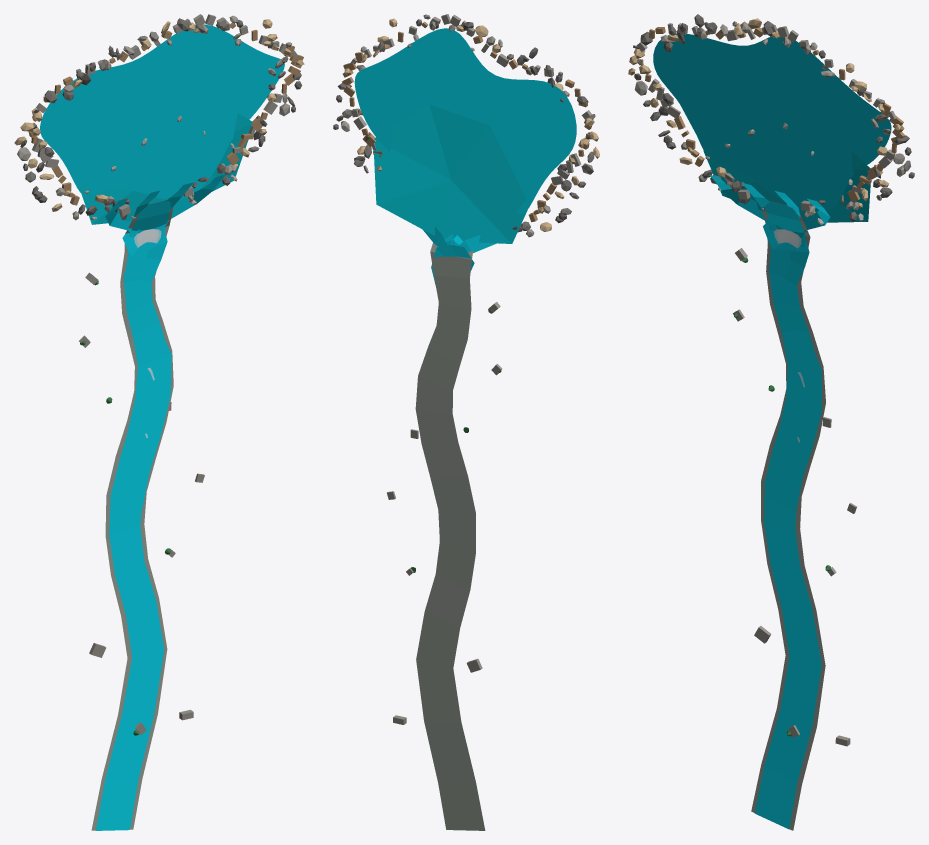
File: compact_water.glb
3 views of the same model, side by side, from view 1: azimuth 30°, elevation 25°; view 2: azimuth 150°, elevation 25°; view 3: azimuth 330°, elevation 25° (orthographic). The views are drawn at different scales.
Parts seen in each view (by area): view 1: SM_Reservoir_Irregular, Final_Main_River_Dam_To_Downstream, Final_Local_Smooth_Water_Repair_No_Rectangle, Final_Riverbed_Cover_No_Black_Strips, Ref_Reservoir_Shallow_Highlight, Final_Merge_Pool_4_To_1, Dam_Waterfall_04; view 2: Final_Riverbed_Cover_No_Black_Strips, SM_Reservoir_Irregular, Ref_Reservoir_Shallow_Highlight; view 3: SM_Reservoir_Irregular, Final_Main_River_Dam_To_Downstream, Final_Local_Smooth_Water_Repair_No_Rectangle, Final_Riverbed_Cover_No_Black_Strips, Ref_Reservoir_Shallow_Highlight, Final_Merge_Pool_4_To_1, Dam_Waterfall_01.
Boxes of the visible parts, left/top/right/bottom form: SM_Reservoir_Irregular: left=40, top=24, right=284, bottom=199; Final_Main_River_Dam_To_Downstream: left=96, top=201, right=170, bottom=830; Final_Local_Smooth_Water_Repair_No_Rectangle: left=110, top=323, right=171, bottom=510; Final_Riverbed_Cover_No_Black_Strips: left=91, top=200, right=173, bottom=830; Ref_Reservoir_Shallow_Highlight: left=79, top=113, right=253, bottom=224; Final_Merge_Pool_4_To_1: left=122, top=232, right=167, bottom=282; Dam_Waterfall_04: left=158, top=174, right=225, bottom=231; Final_Riverbed_Cover_No_Black_Strips: left=415, top=242, right=485, bottom=830; SM_Reservoir_Irregular: left=354, top=28, right=576, bottom=214; Ref_Reservoir_Shallow_Highlight: left=373, top=104, right=527, bottom=243; SM_Reservoir_Irregular: left=653, top=33, right=891, bottom=213; Final_Main_River_Dam_To_Downstream: left=755, top=201, right=821, bottom=829; Final_Local_Smooth_Water_Repair_No_Rectangle: left=764, top=330, right=821, bottom=511; Final_Riverbed_Cover_No_Black_Strips: left=751, top=200, right=825, bottom=830; Ref_Reservoir_Shallow_Highlight: left=703, top=147, right=870, bottom=223; Final_Merge_Pool_4_To_1: left=763, top=223, right=809, bottom=286; Dam_Waterfall_01: left=709, top=175, right=777, bottom=231.
Size of the model in its own units: 292 by 821 by 81.37.
